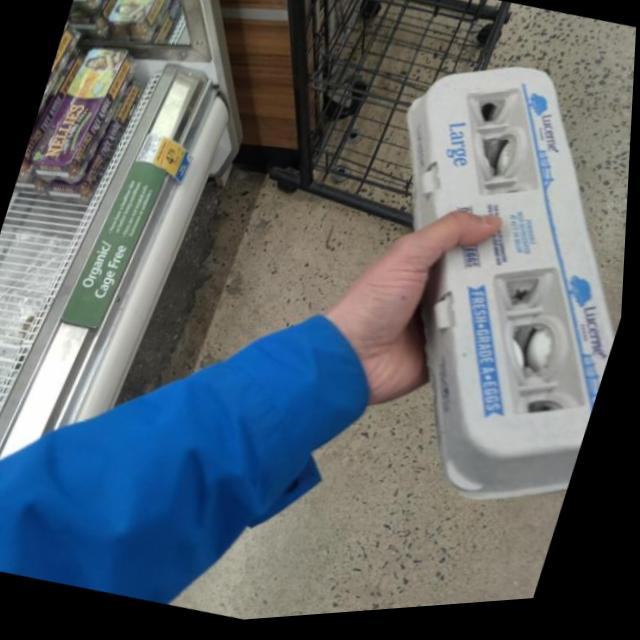Eggs: (304, 44, 637, 531), (29, 34, 139, 197), (103, 0, 185, 48), (68, 0, 139, 29)
